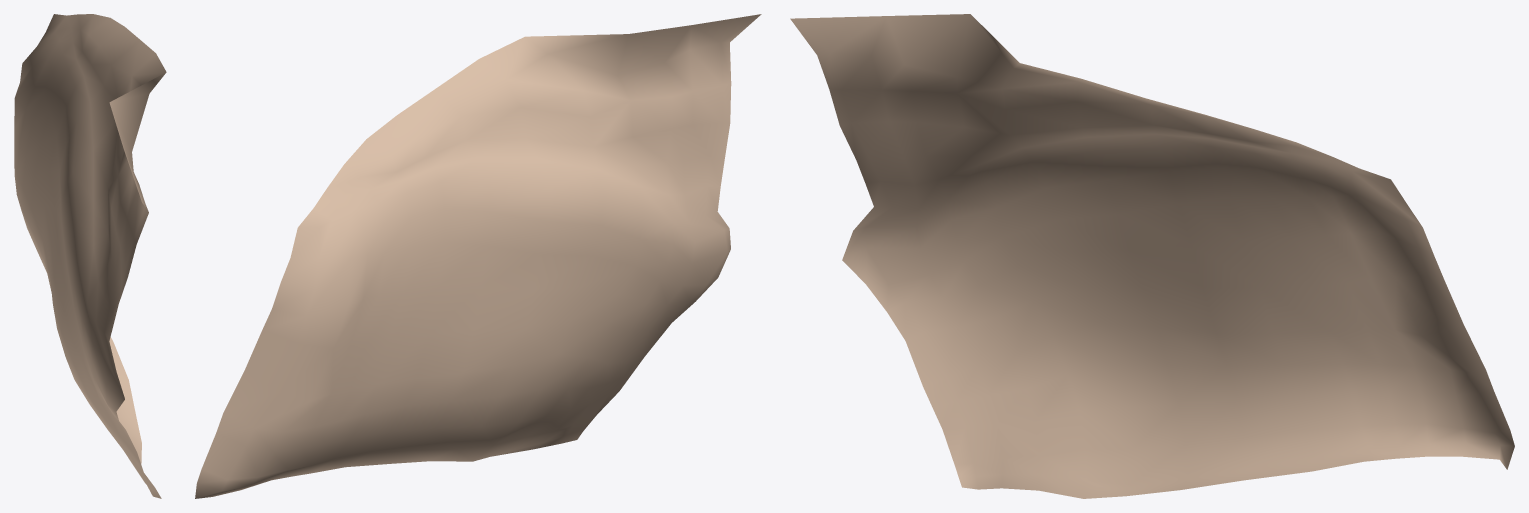
3 views of the same model, side by side, from view 1: azimuth 30°, elevation 25°; view 2: azimuth 150°, elevation 25°; view 3: azimuth 270°, elevation 25° (orthographic). The views are drawn at different scales.
Parts seen in each view (by area): view 1: 右侧咬肌筋膜; view 2: 右侧咬肌筋膜; view 3: 右侧咬肌筋膜.
Boxes of the visible parts, x1,y1,x2,y2 form: 右侧咬肌筋膜: [14, 14, 166, 498]; 右侧咬肌筋膜: [195, 14, 761, 498]; 右侧咬肌筋膜: [790, 14, 1514, 498].
Bounding box in the file's own units: 0.0417 × 0.0696 × 0.1016.
